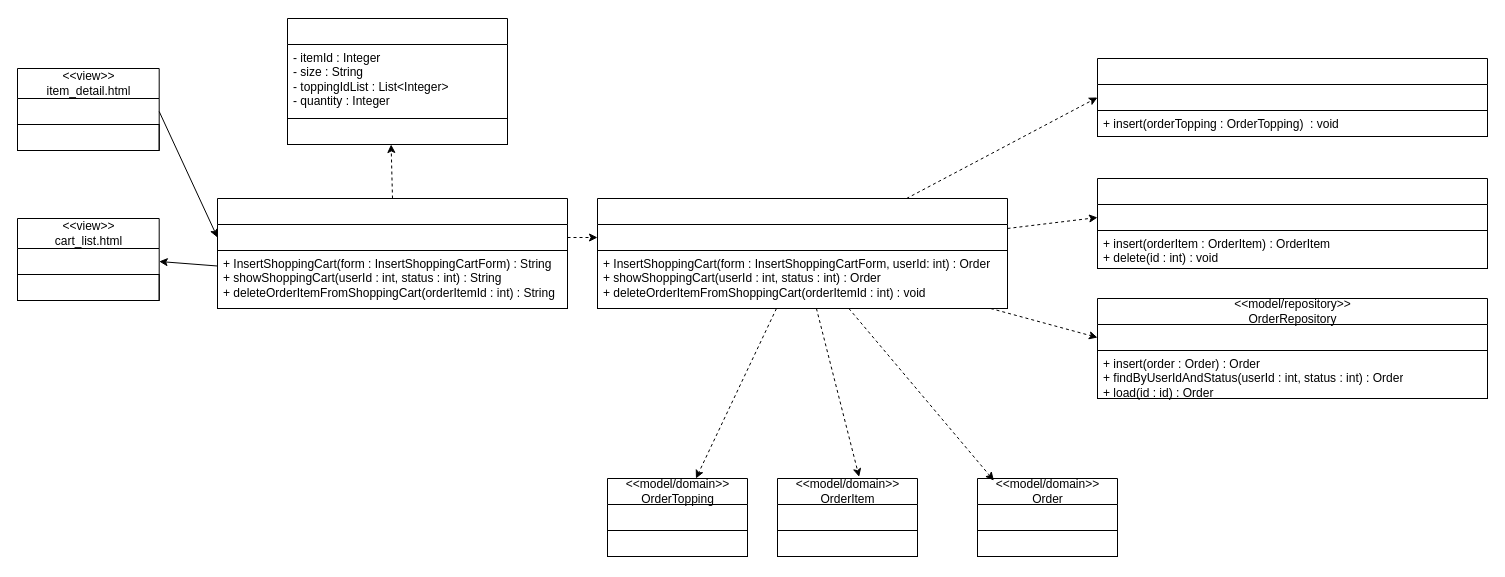
Some shapes in this 1505 by 577 pixel diagram are drawn without their labels. Each missing label, with the box of its shape:
<<controller/controller>> ShoppingCartController: (216, 198, 568, 308)
<<controller/form>> InsertShoppingCartForm: (286, 18, 508, 144)
<<model/repository>> OrderItemRepository: (1096, 178, 1488, 268)
<<model/repository>> OrderToppingRepository: (1096, 58, 1488, 136)
<<model/service>> ShoppingCartService: (596, 198, 1008, 308)
